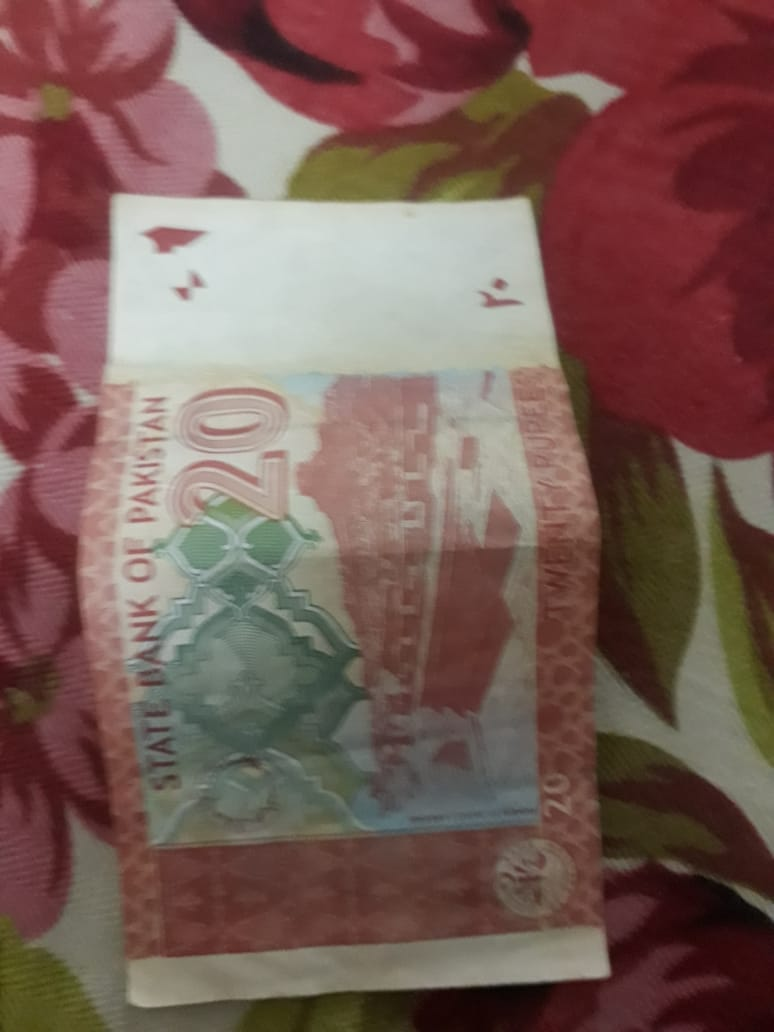20 rupee: (86, 173, 620, 1001)
